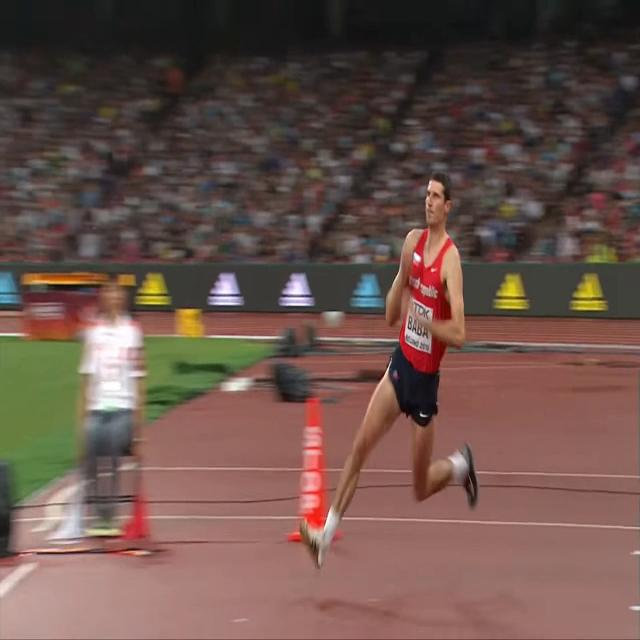run: (299, 169, 479, 572)
